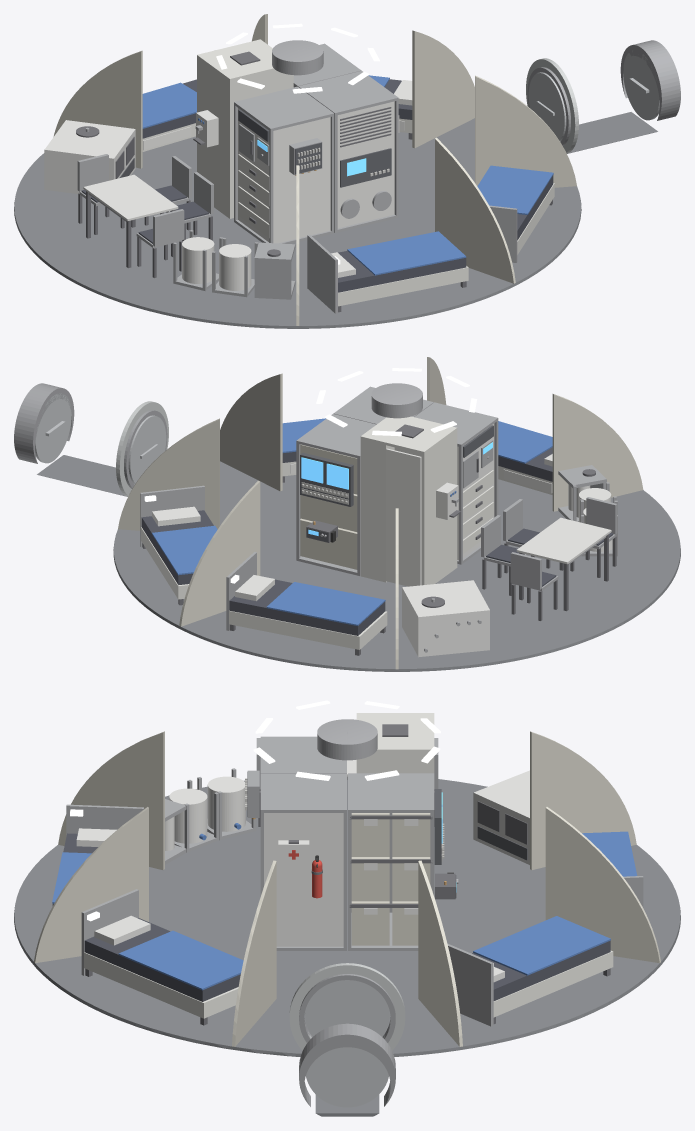
Rendered from rover11_inflatable_dome_deployed_cutaway.glb.
3 renders of one model, top to bottom at view 1: azimuth 30°, elevation 25°; view 2: azimuth 150°, elevation 25°; view 3: azimuth 270°, elevation 25°, orthographic. The views are drawn at different scales.
Visible parts, largest first — view 1: deck_floor, quarters_partitions, eq40_1_walls, eq25_1_body, eq25_1_rack_frame, eq28_1_body, eq07_1_body, eq28_1_rack_frame, eq33_3_blanket, eq33_4_blanket, eq36_1_table_top, hatch_tunnel_1 (+33 smaller); view 2: deck_floor, quarters_partitions, eq40_1_walls, eq07_1_body, eq40_1_door, eq27_1_stowage_bags, eq27_1_rack_frame, eq33_2_blanket, eq25_1_rack_frame, eq36_1_table_top, eq33_2_base, hatch_tunnel_1 (+33 smaller); view 3: deck_floor, quarters_partitions, eq28_1_body, eq27_1_stowage_bags, eq27_1_rack_frame, eq28_1_rack_frame, eq33_1_blanket, eq33_4_blanket, hatch_door_1, eq40_1_walls, hatch_door_2, hatch_tunnel_1 (+27 smaller).
Part boxes in pixels (left/top/right/bottom): deck_floor: left=14, top=118, right=581, bottom=328; quarters_partitions: left=53, top=14, right=576, bottom=325; eq40_1_walls: left=197, top=39, right=293, bottom=218; eq25_1_body: left=238, top=108, right=330, bottom=243; eq25_1_rack_frame: left=234, top=86, right=334, bottom=243; eq28_1_body: left=337, top=101, right=394, bottom=228; eq07_1_body: left=44, top=120, right=135, bottom=193; eq28_1_rack_frame: left=298, top=71, right=398, bottom=232; eq33_3_blanket: left=347, top=231, right=466, bottom=275; eq33_4_blanket: left=477, top=165, right=553, bottom=214; eq36_1_table_top: left=83, top=174, right=178, bottom=221; hatch_tunnel_1: left=620, top=40, right=680, bottom=120; deck_floor: left=113, top=461, right=680, bottom=671; quarters_partitions: left=118, top=357, right=643, bottom=669; eq40_1_walls: left=360, top=416, right=457, bottom=585; eq07_1_body: left=402, top=580, right=489, bottom=657; eq40_1_door: left=386, top=448, right=421, bottom=586; eq27_1_stowage_bags: left=300, top=444, right=357, bottom=569; eq27_1_rack_frame: left=296, top=414, right=376, bottom=575; eq33_2_blanket: left=266, top=582, right=385, bottom=625; eq25_1_rack_frame: left=414, top=402, right=498, bottom=564; eq36_1_table_top: left=516, top=517, right=611, bottom=564; eq33_2_base: left=229, top=610, right=387, bottom=649; hatch_tunnel_1: left=14, top=383, right=74, bottom=463; deck_floor: left=14, top=779, right=680, bottom=1056; quarters_partitions: left=34, top=731, right=660, bottom=1046; eq28_1_body: left=264, top=813, right=343, bottom=946; eq27_1_stowage_bags: left=351, top=813, right=430, bottom=945; eq27_1_rack_frame: left=348, top=773, right=434, bottom=950; eq28_1_rack_frame: left=260, top=773, right=346, bottom=950; eq33_1_blanket: left=473, top=916, right=610, bottom=975; eq33_4_blanket: left=118, top=930, right=243, bottom=990; hatch_door_1: left=306, top=1047, right=388, bottom=1107; eq40_1_walls: left=356, top=713, right=434, bottom=773; hatch_door_2: left=305, top=980, right=389, bottom=1036; hatch_tunnel_1: left=299, top=1023, right=395, bottom=1106.
Size of the model in its own units: 9.55 by 2.45 by 7.72.
